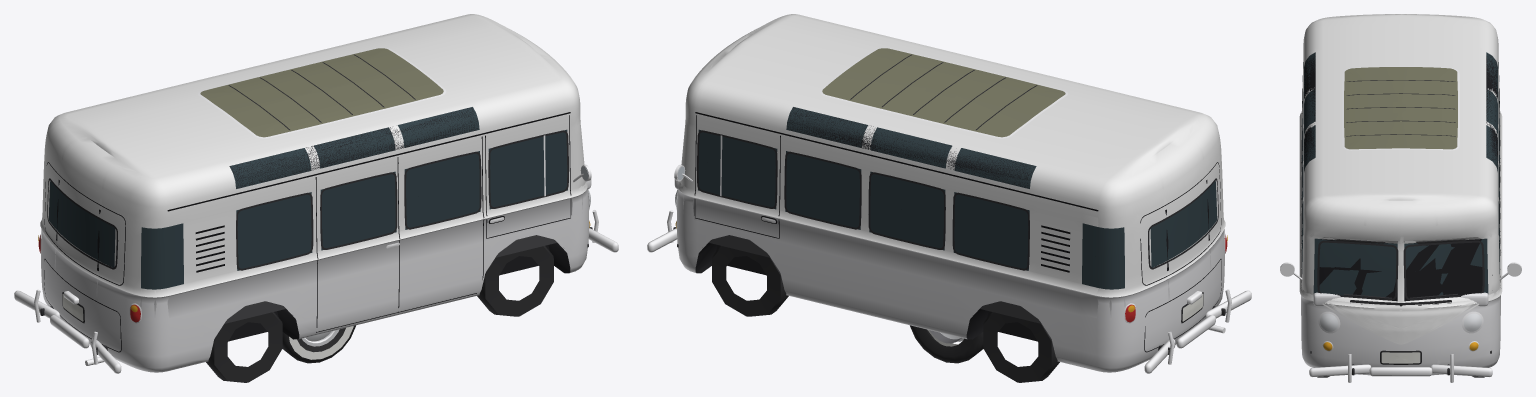
The model's file is vwbus.glb.
The picture shows the model from 3 angles, left to right: view 1: azimuth 30°, elevation 25°; view 2: azimuth 150°, elevation 25°; view 3: azimuth 270°, elevation 25°; orthographic projection. The views are drawn at different scales.
Visible parts, largest first — view 1: vwbus, vwbus_lo, vwbus_wf; view 2: vwbus, vwbus_lo, vwbus_wf; view 3: vwbus, vwbus_lo.
Boxes of the visible parts, x1=… form: vwbus: x1=14, y1=14, x2=618, y2=373; vwbus_lo: x1=40, y1=15, x2=589, y2=382; vwbus_wf: x1=282, y1=325, x2=355, y2=363; vwbus: x1=647, y1=14, x2=1251, y2=373; vwbus_lo: x1=676, y1=15, x2=1224, y2=382; vwbus_wf: x1=910, y1=325, x2=983, y2=363; vwbus: x1=1280, y1=14, x2=1521, y2=382; vwbus_lo: x1=1280, y1=14, x2=1521, y2=377.
Bounding box in the file's own units: 4.58 × 2.32 × 2.13.
